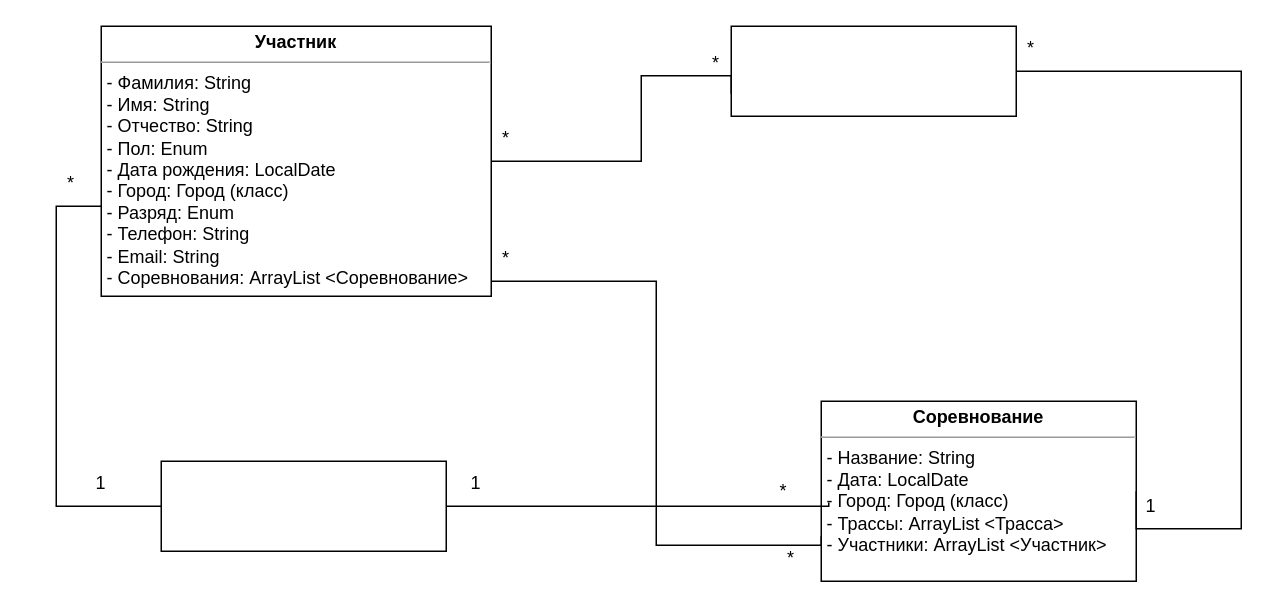
Some shapes in this 1269 by 608 pixel diagram are drawn without their labels. Here are the shapes that lost their labels. From the top down, the centre of each, then its label:
At (873,70): "Трасса - Категория: Type".
At (303,505): "Город - Название: String".
